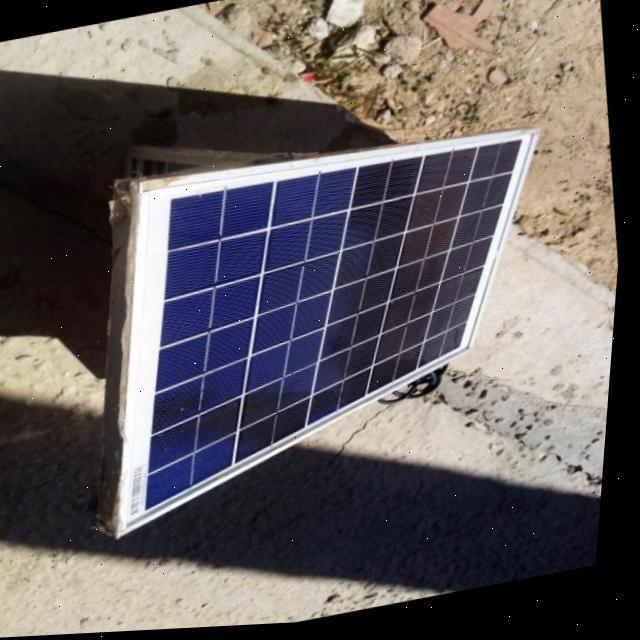Normal Solar Panel: (82, 109, 592, 537)
